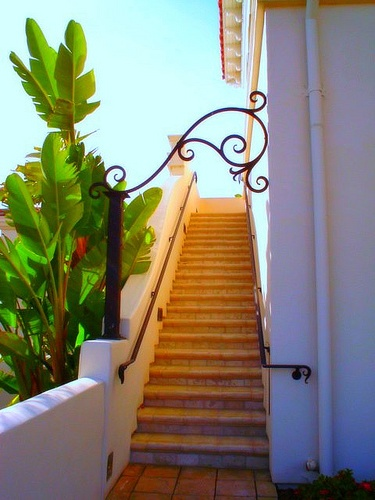stairs_up: (123, 203, 253, 476)
